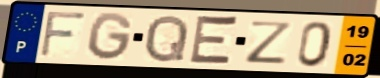0: (296, 20, 335, 68)
E: (187, 13, 242, 69)
F: (37, 9, 89, 59)
G: (87, 11, 136, 62)
Q: (142, 13, 192, 64)
Z: (245, 19, 296, 65)
